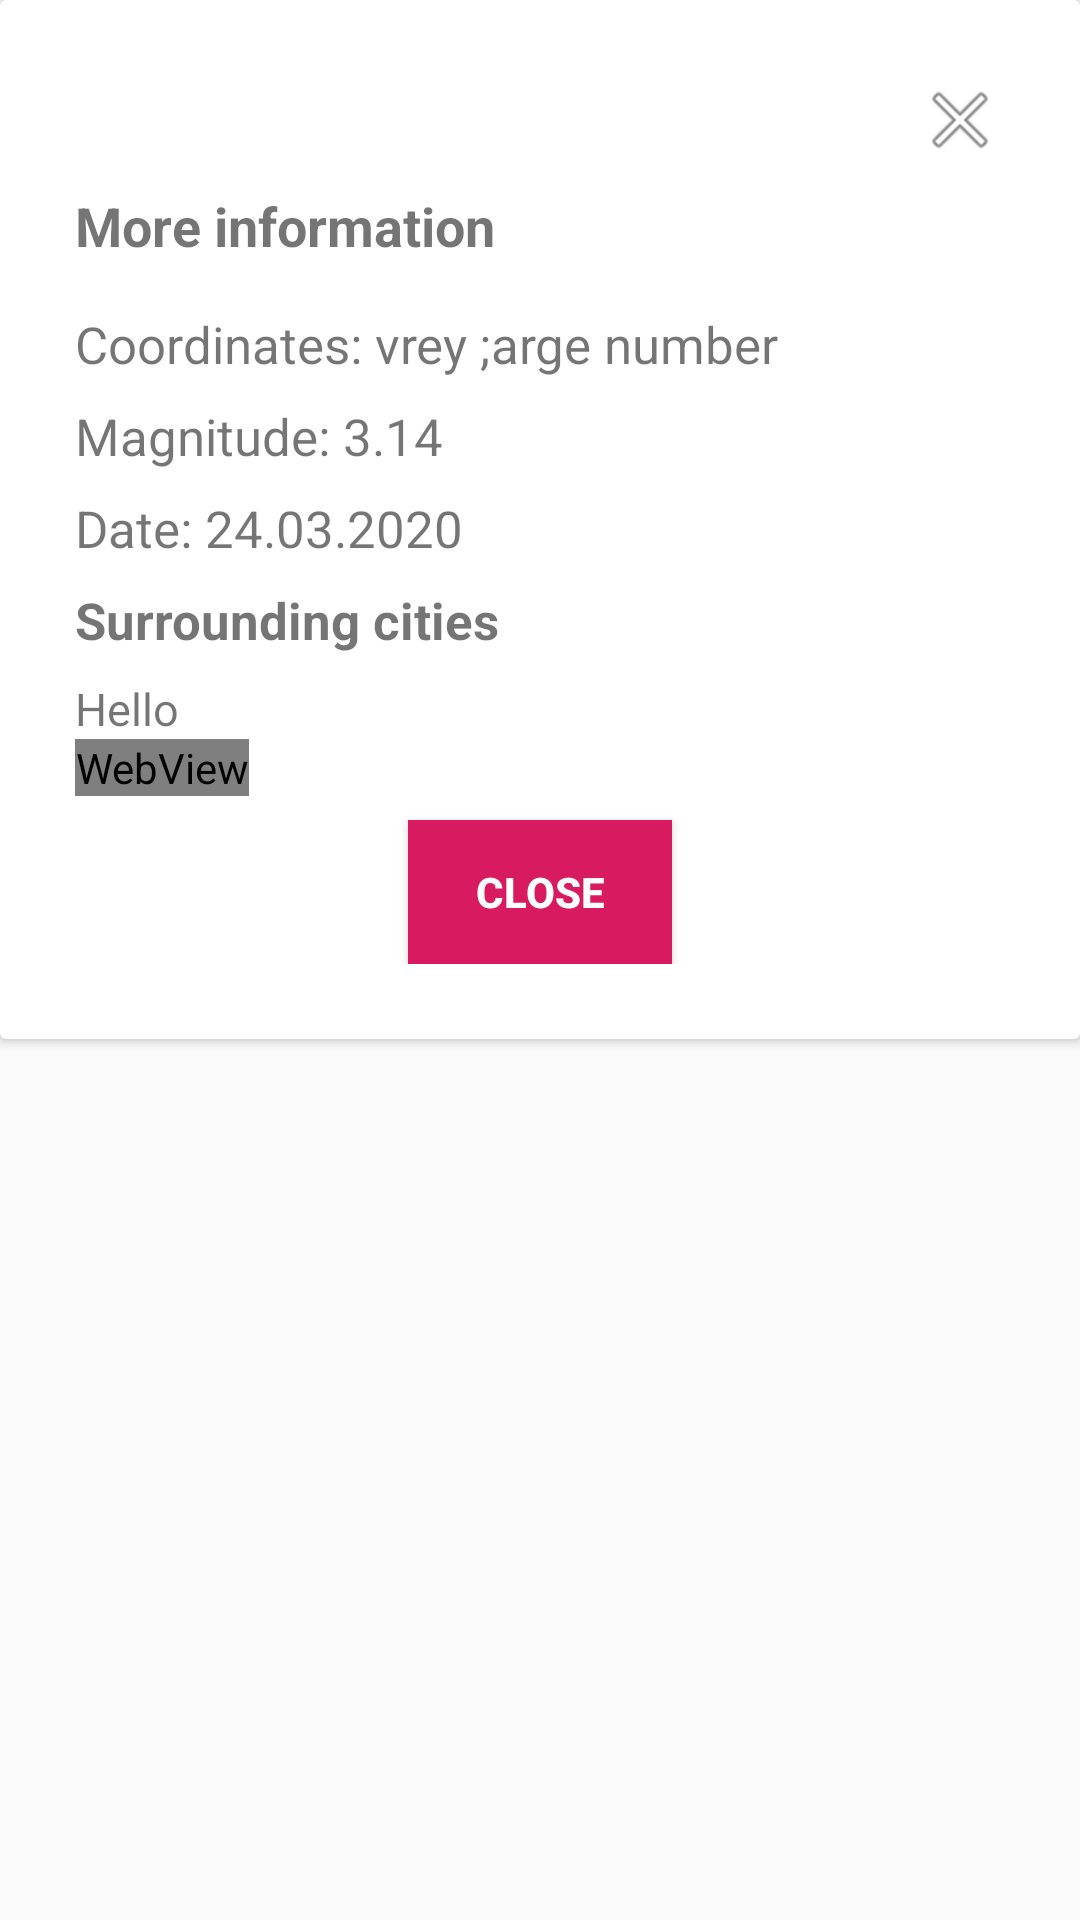

Named icons in this screenshot (1080px x 1920px) and their centers, [x,y]:
close clear cancel: [960,120]
